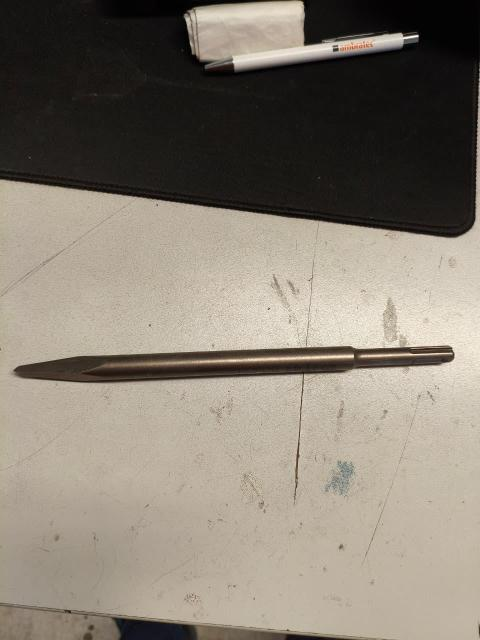Kagit: (178, 0, 322, 50)
Metal: (7, 330, 462, 392)
Plastik: (190, 23, 417, 97)
